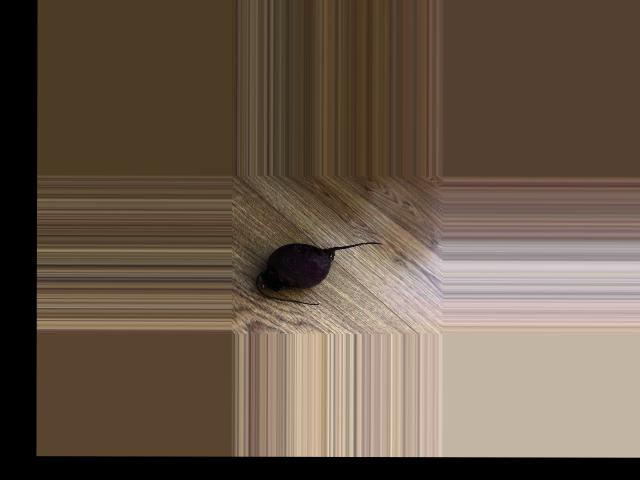beet: (256, 241, 382, 304)
